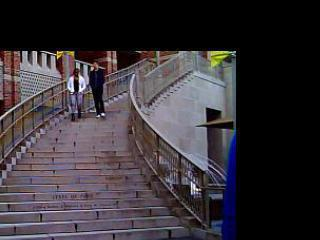Escaleras: (0, 110, 190, 240), (84, 67, 193, 110)
